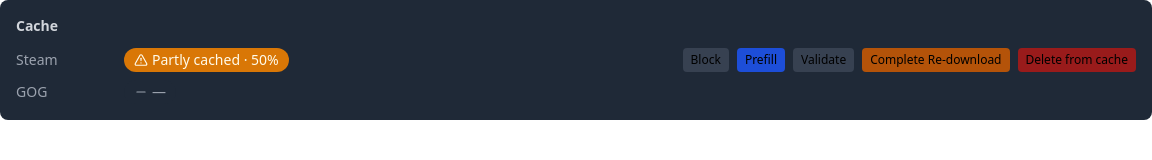
Test: CachePanel › stops polling /api/cache/jobs after the panel unmounts (#230 poll-loop leak)
Expected: the text "Partly cached · 50%" is shown, [124,48,289,72]
Click the button "Validate": (824, 60) [793,48,854,72]
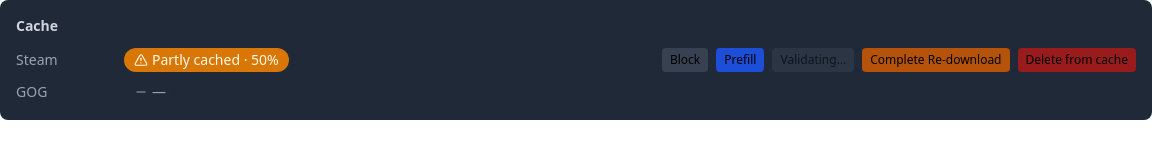
Expected: the button "Validating…" is shown, [772,48,854,72]
